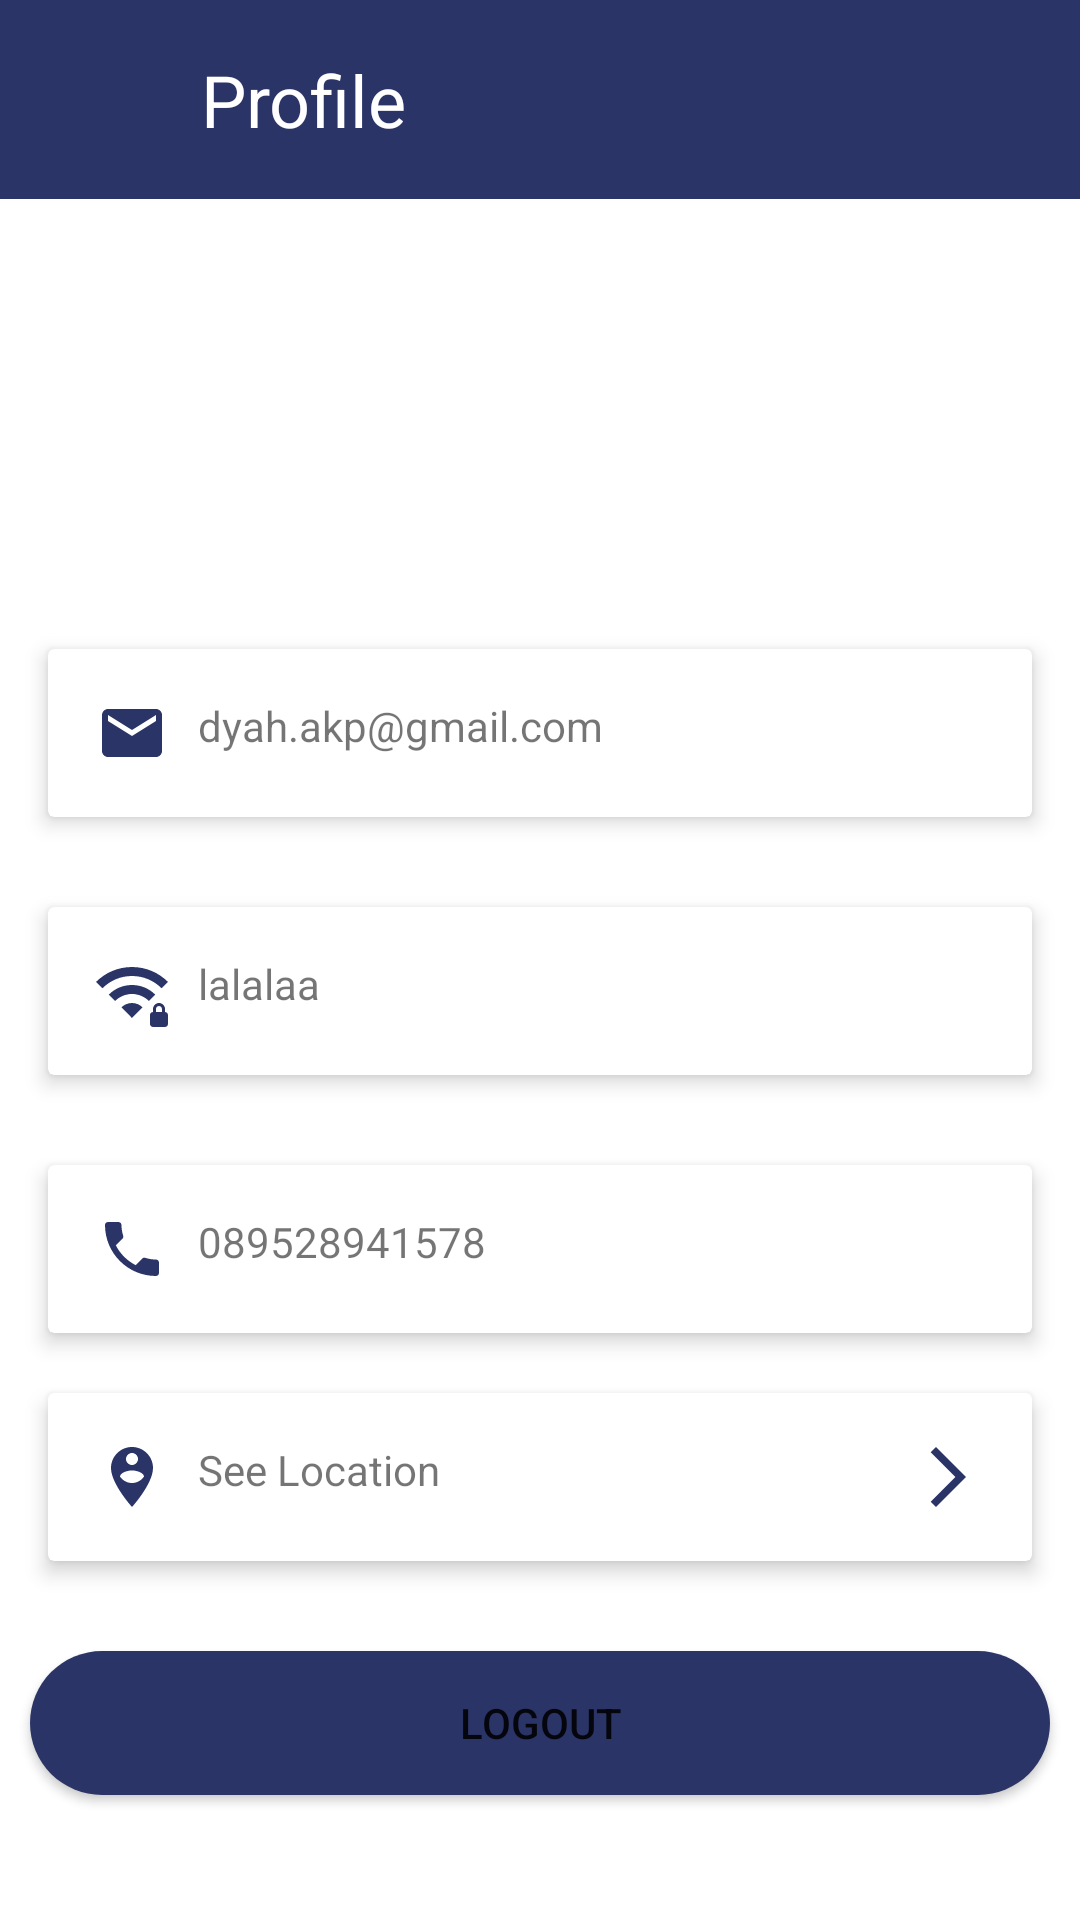

Icon bounding boxes for this 1080 × 1920 phone screenshot, format (x1,y1,x2,y2):
arrow: (931,1447,966,1507)
email: (102,709,162,757)
password: (96,967,168,1027)
phone: (105,1222,159,1276)
